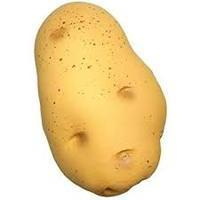biodegradable: (33, 1, 168, 197)
